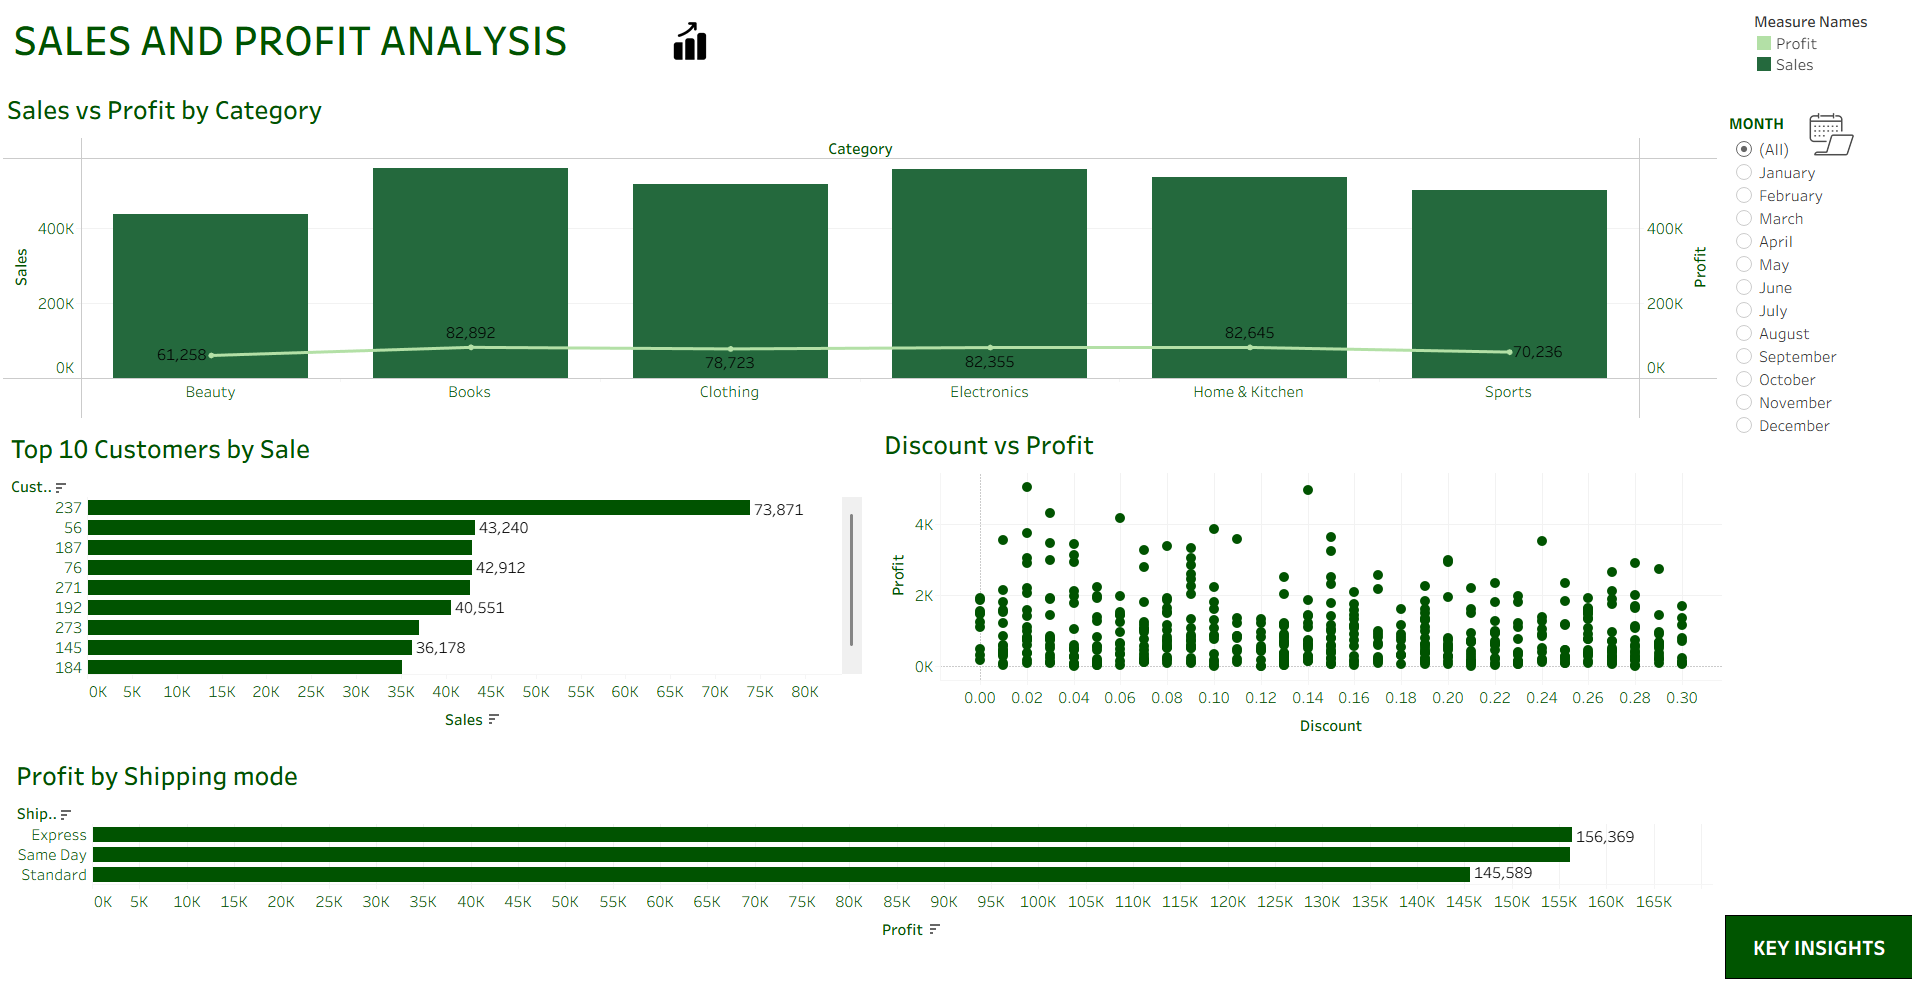

The dashboard page shown, as its layout file describes it:
{"tool":"tableau","page":{"name":"Sales and profit analysis","canvas":[1000,1000],"units":"permille","ordinal":2},"visuals":[{"type":"title","box":[4.8,10,893.8,78.7]},{"type":"legend","title":"sales vs profit cat","param":"[federated.0e2i2sc14w95p515sowkp1vljjau].[:Measure Names]","box":[898.6,10,96.6,89.9]},{"type":"image","param":"C:/Users/Sreejith K R/Downloads/sales.png","box":[348.8,20,22.3,59.9]},{"type":"worksheet","title":"sales vs profit cat","mark":"Automatic","rows":["Sales","Profit"],"cols":["Category"],"box":[2.4,89.9,893.2,333.3]},{"type":"image","param":"C:/Users/Sreejith K R/Downloads/weekday.png","box":[942.7,112.4,28.4,46.2]},{"type":"filter","title":"Top 10 customers by sales","param":"[federated.0e2i2sc14w95p515sowkp1vljjau].[mn:OrderDate:ok]","box":[901.3,114.9,95.7,408.2]},{"type":"worksheet","title":"disc vs profit","mark":"Circle","rows":["Profit"],"cols":["Discount"],"box":[459.3,427,438.4,322.1]},{"type":"worksheet","title":"Top 10 customers by sales","mark":"Automatic","rows":["CustomerID"],"cols":["Sales"],"box":[4.8,430.7,445.6,320.9]},{"type":"worksheet","title":"profit by shipping mode","mark":"Automatic","rows":["ShippingMode"],"cols":["Profit"],"box":[7.2,760.3,885.9,243.5]},{"type":"dashboard-object","box":[899.2,922.6,97.8,64.9]}]}

Visuals, with their boxes on the dashboard's canvas, which has no fixed pixel size, in thousandths of its width and height (x1, y1, x2, y2). These are canvas units, not pixel positions in the 1917x990 screenshot, which may show the page scaled, cropped or inside an application window:
title: locate(5, 10, 899, 89)
"sales vs profit cat" legend: locate(899, 10, 995, 100)
image: locate(349, 20, 371, 80)
"sales vs profit cat" worksheet: locate(2, 90, 896, 423)
image: locate(943, 112, 971, 159)
"Top 10 customers by sales" filter: locate(901, 115, 997, 523)
"disc vs profit" worksheet (Circle marks): locate(459, 427, 898, 749)
"Top 10 customers by sales" worksheet: locate(5, 431, 450, 752)
"profit by shipping mode" worksheet: locate(7, 760, 893, 1004)
dashboard-object: locate(899, 923, 997, 988)
